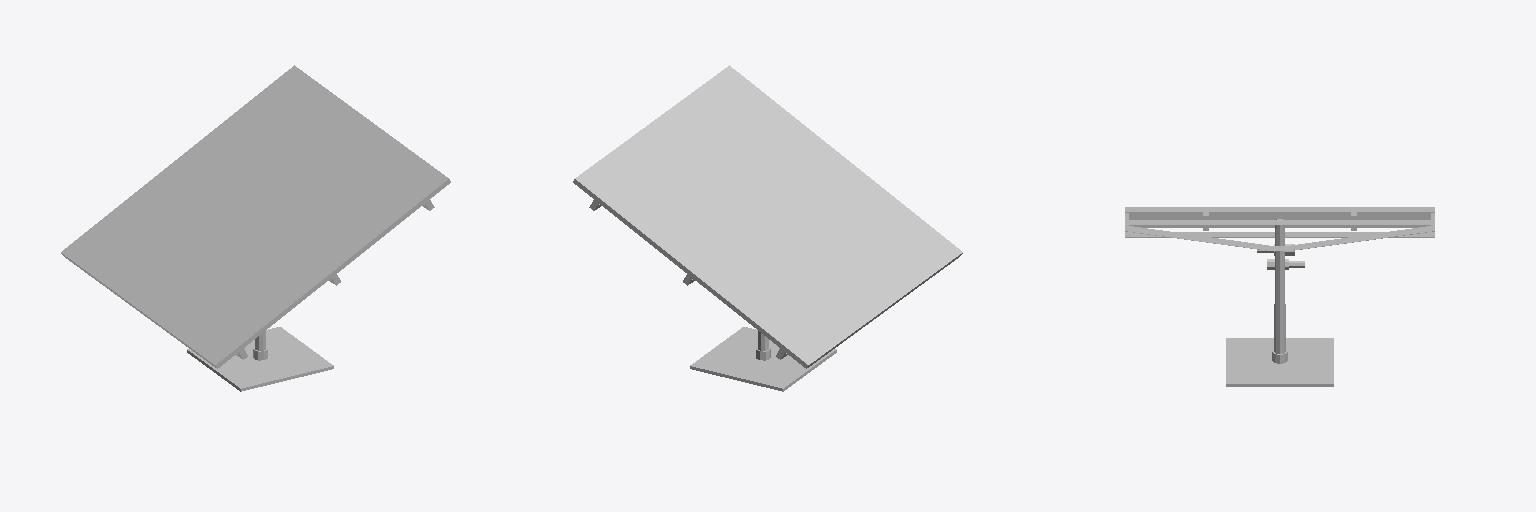
File: solar_panel.obj
The picture shows the model from 3 angles: view 1: azimuth 30°, elevation 25°; view 2: azimuth 150°, elevation 25°; view 3: azimuth 270°, elevation 25°; orthographic projection.
Parts seen in each view (by area): view 1: Plane_003, Cylinder; view 2: Plane_003, Cylinder; view 3: Plane_003, Cylinder.
Boxes of the visible parts, x1,y1,x2,y2 form: Plane_003: [61, 65, 450, 368]; Cylinder: [187, 327, 333, 391]; Plane_003: [573, 65, 962, 368]; Cylinder: [690, 327, 836, 391]; Plane_003: [1125, 207, 1434, 250]; Cylinder: [1226, 219, 1333, 386].
Bounding box in the file's own units: 3.11 × 2.67 × 3.53.